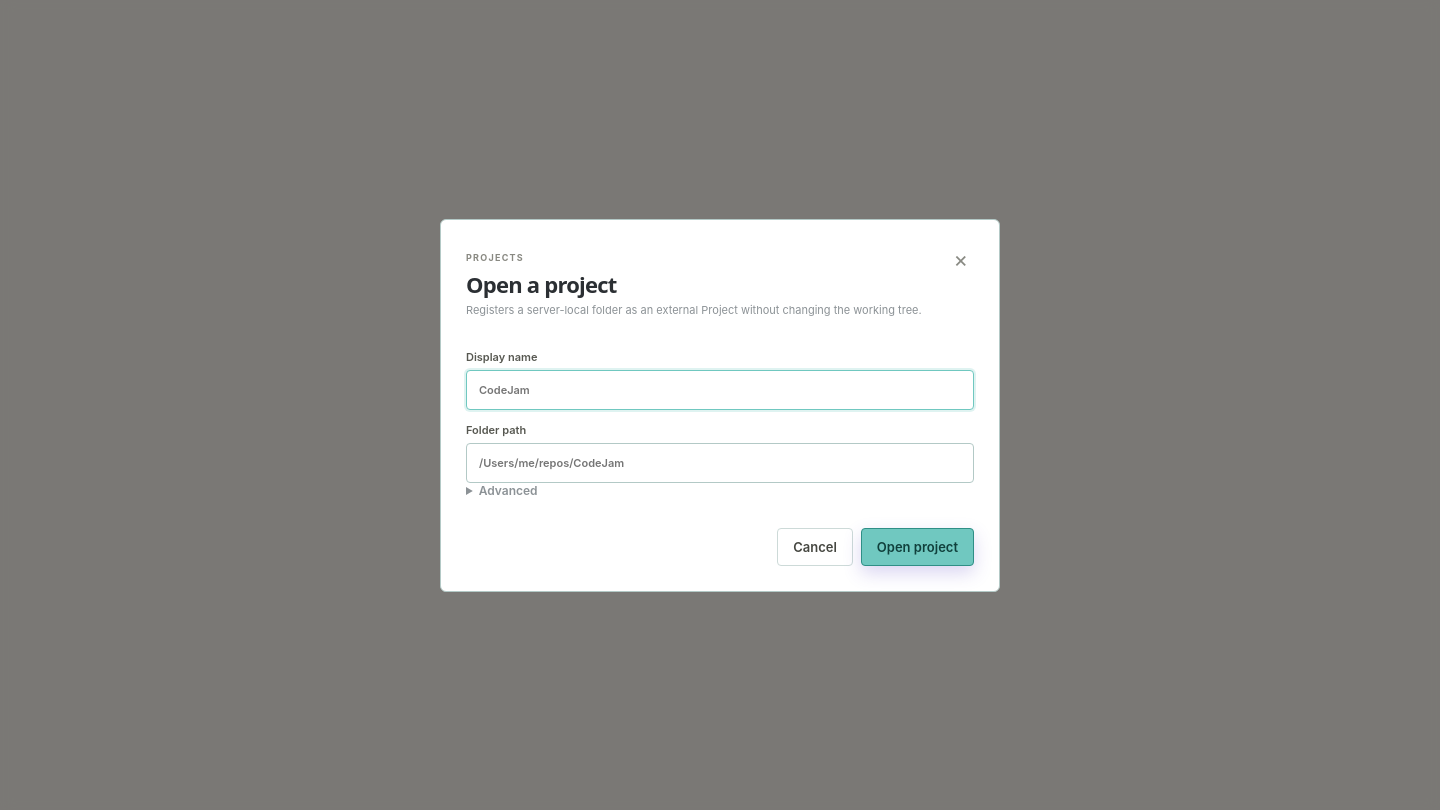
Test: the revision field › is still there for whoever needs it, and says what it is for
This screenshot has width=1440, height=810.
Click the heading "Advanced".
click(508, 490)  # box [479,482,538,498]
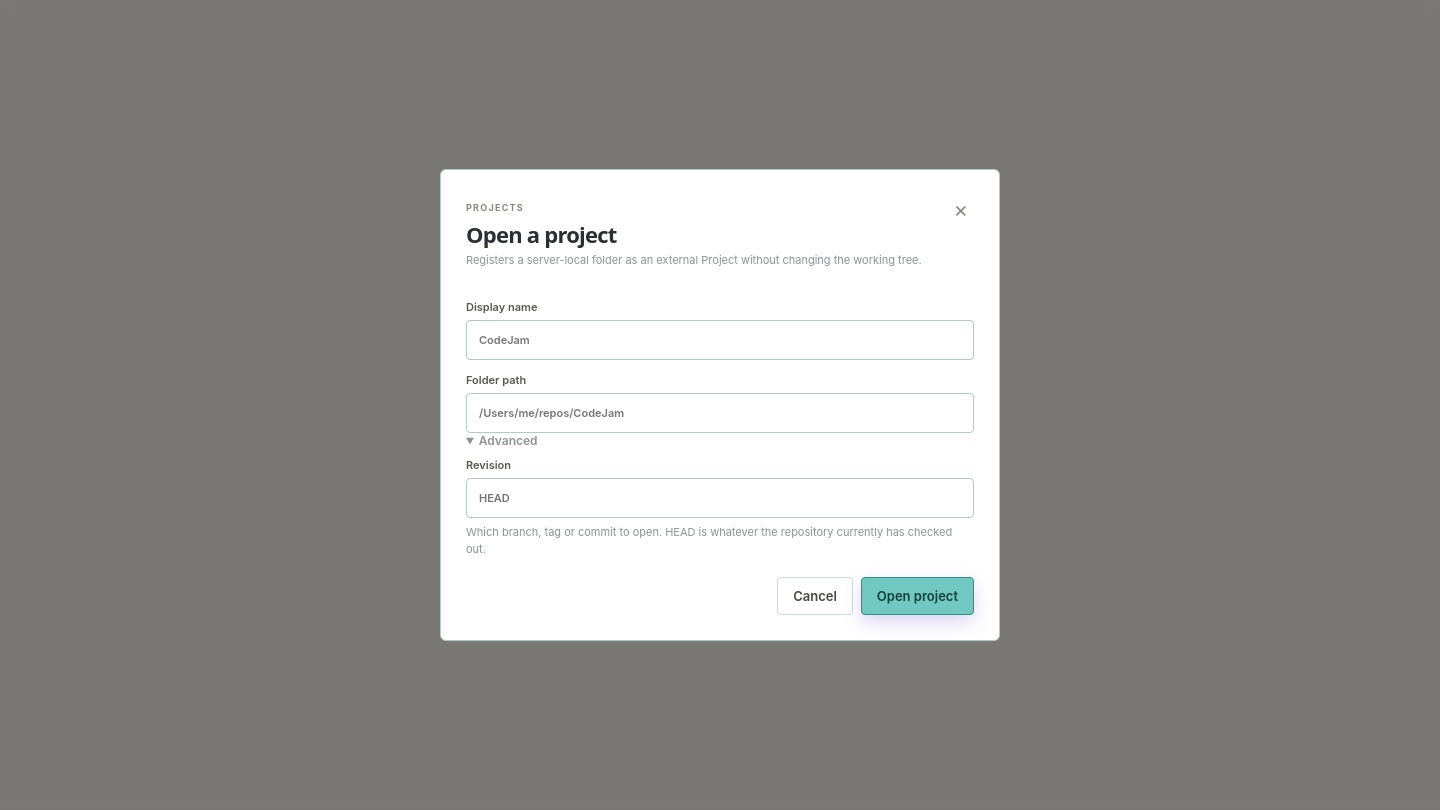
Expected: the field labelled "Revision" is shown, [466,478,974,518]
Expected: the text "branch, tag or commit" is shown, [466,525,952,556]
